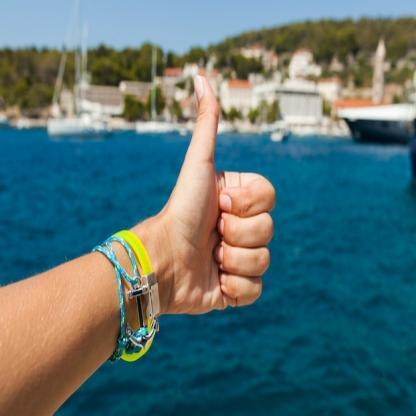thumb_up: (152, 70, 274, 315)
